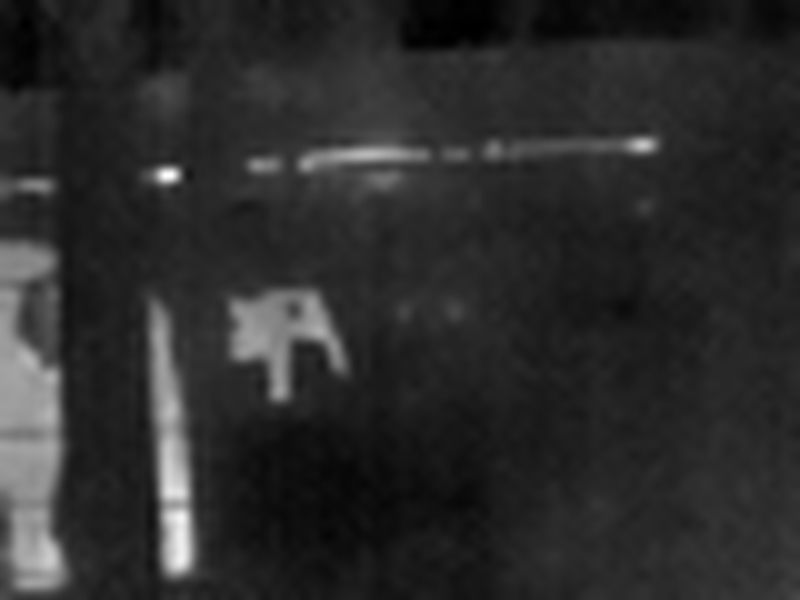elephant: (1, 243, 203, 600), (220, 290, 380, 401)
